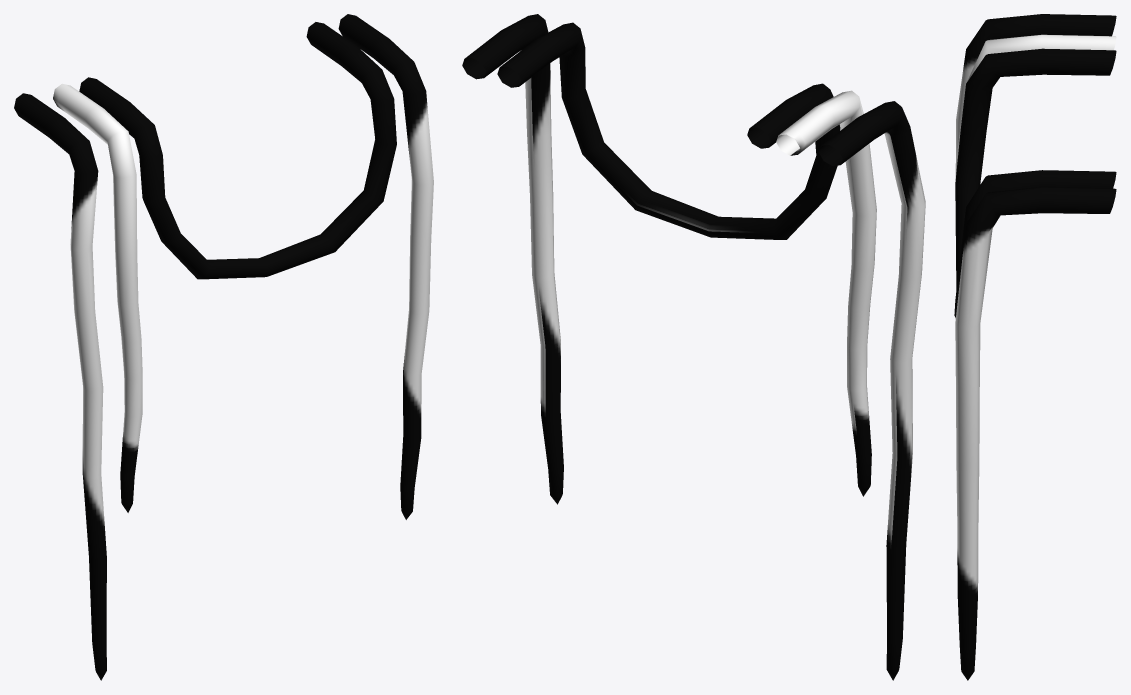
Rendered from vine bunch w.FBX.
3 views of the same model, side by side, from view 1: azimuth 30°, elevation 25°; view 2: azimuth 150°, elevation 25°; view 3: azimuth 270°, elevation 25° (orthographic). The views are drawn at different scales.
Parts seen in each view (by area): view 1: Box010; view 2: Box010; view 3: Box010.
Boxes of the visible parts, x1=… form: Box010: x1=14, y1=14, x2=433, y2=680; Box010: x1=462, y1=14, x2=925, y2=680; Box010: x1=954, y1=14, x2=1116, y2=680.
Size of the model in its own units: 168 by 241 by 59.65.
